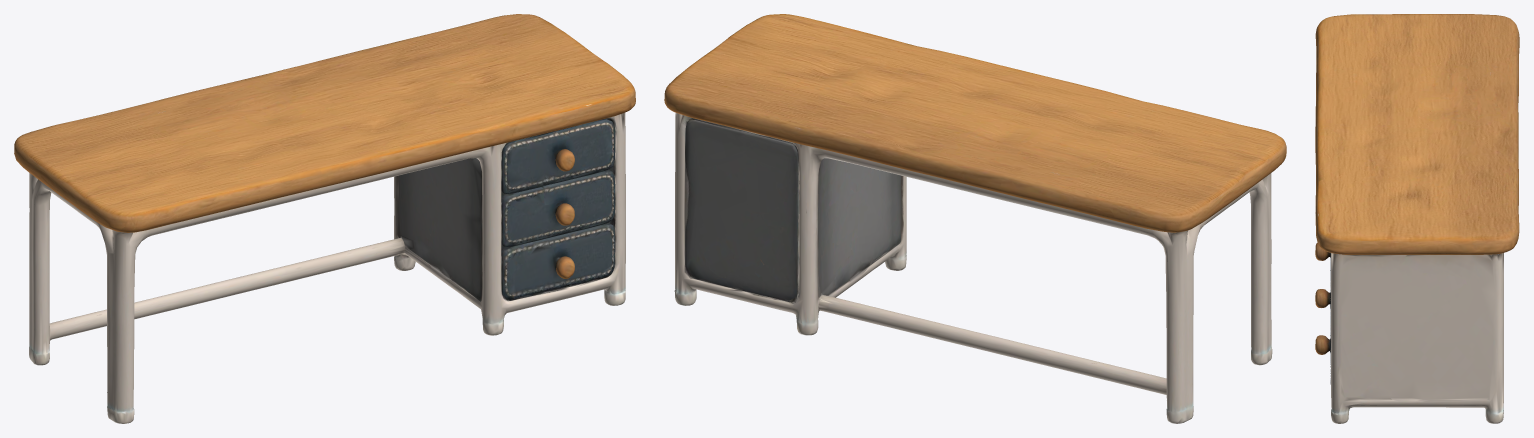
Rendered from study-desk.medium.glb.
3 views of the same model, side by side, from view 1: azimuth 30°, elevation 25°; view 2: azimuth 150°, elevation 25°; view 3: azimuth 270°, elevation 25° (orthographic). The views are drawn at different scales.
Visible parts, largest first — view 1: tripo_node_a2fce4ef-5197-4d88-b1a3-64c240ba466b; view 2: tripo_node_a2fce4ef-5197-4d88-b1a3-64c240ba466b; view 3: tripo_node_a2fce4ef-5197-4d88-b1a3-64c240ba466b.
Part boxes in pixels (x1,y1,x2,y2): tripo_node_a2fce4ef-5197-4d88-b1a3-64c240ba466b: [14, 14, 635, 423]; tripo_node_a2fce4ef-5197-4d88-b1a3-64c240ba466b: [664, 14, 1286, 423]; tripo_node_a2fce4ef-5197-4d88-b1a3-64c240ba466b: [1315, 14, 1519, 423].
Bounding box in the file's own units: 1.9 × 0.7396 × 0.7192.
1 material, 1 textured.
